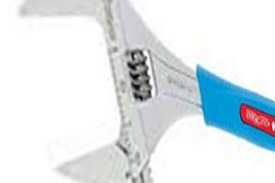wrench: (14, 2, 275, 183)
